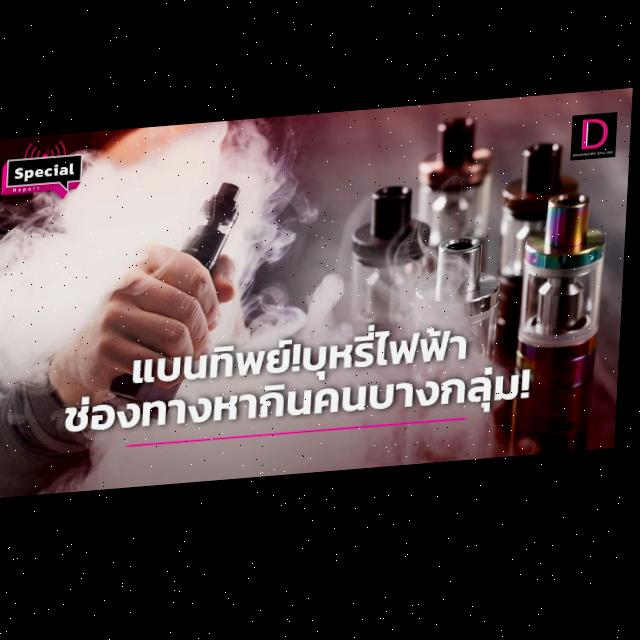vape: (112, 185, 244, 428), (514, 199, 610, 465), (413, 242, 507, 473), (496, 147, 588, 370), (350, 186, 436, 395), (414, 122, 499, 290)
